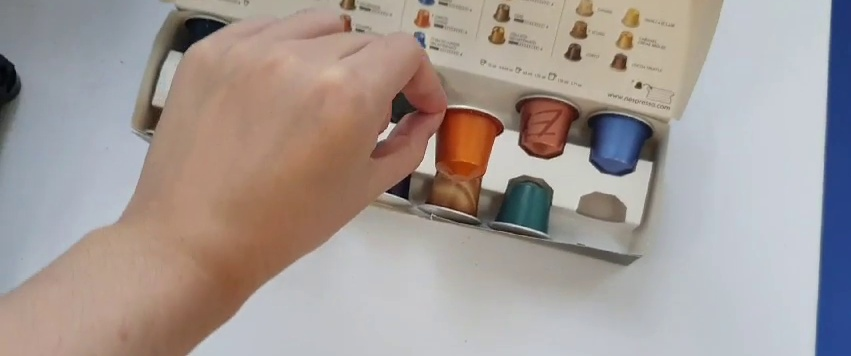capsule_5: (425, 102, 503, 180)
